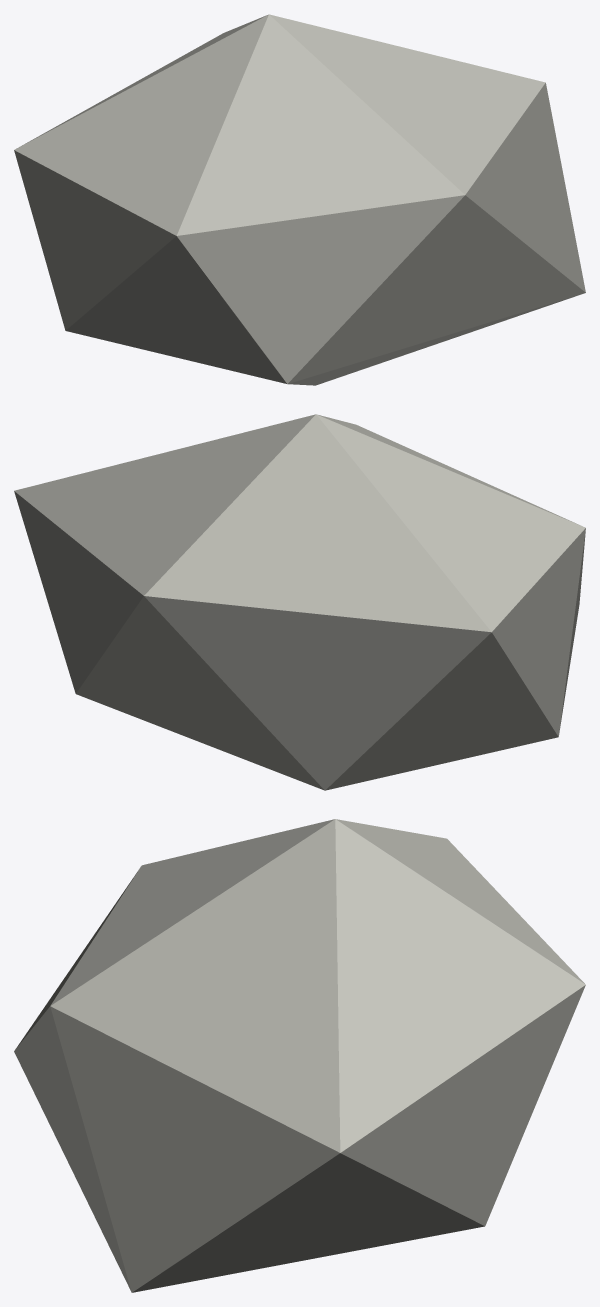
The model's file is Rock.fbx.
3 renders of one model, top to bottom at view 1: azimuth 30°, elevation 25°; view 2: azimuth 150°, elevation 25°; view 3: azimuth 270°, elevation 25°, orthographic. The views are drawn at different scales.
Parts seen in each view (by area): view 1: Rock; view 2: Rock; view 3: Rock.
Boxes of the visible parts, box(x1,y1,x2,y2) form: Rock: box(14, 14, 585, 385); Rock: box(14, 414, 585, 790); Rock: box(14, 819, 585, 1292).
Bounding box in the file's own units: 3.4 × 2.3 × 2.8.
Materials: 1 (1 with a texture image).
